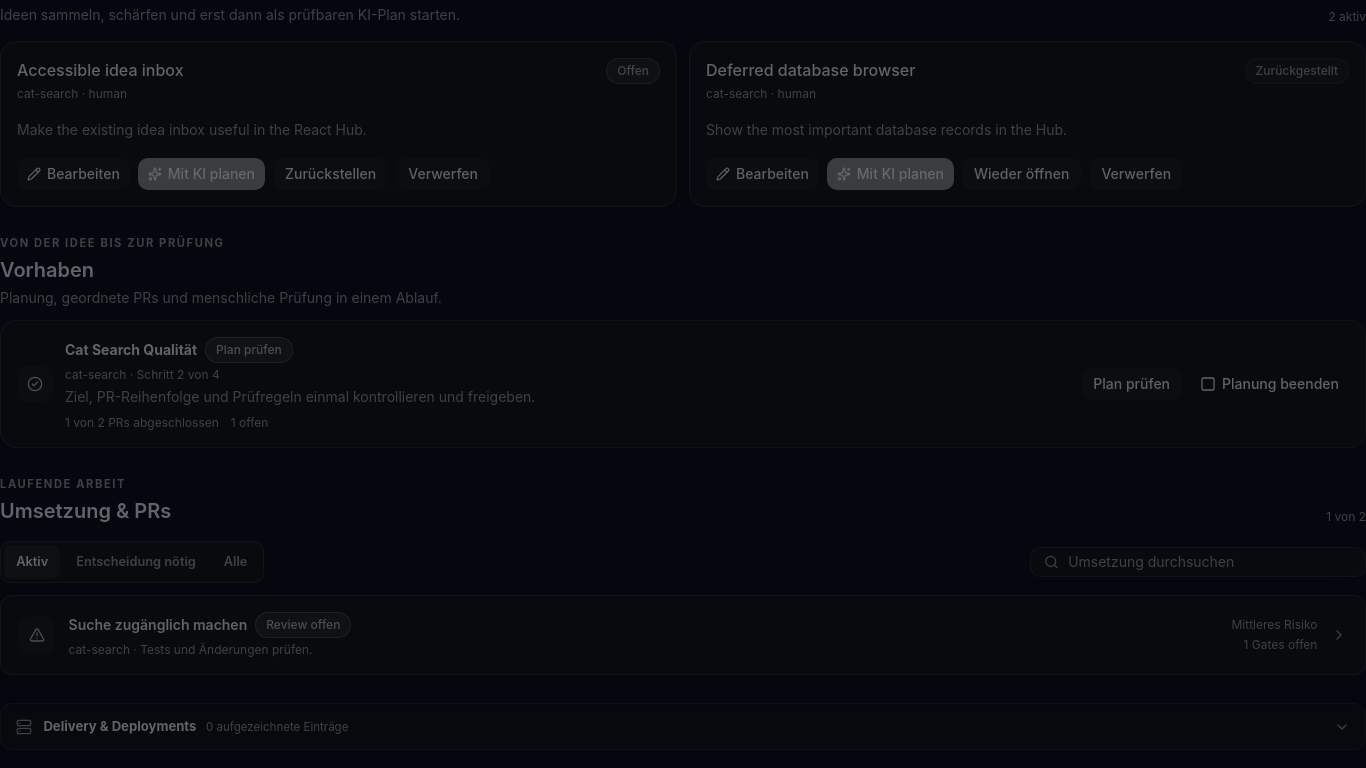
it: AutomationPage › keeps partial approval failures visible and refreshes the overview
(page scrolled)
Click the button "Plan prüfen" at x=1132, y=384, box x1=1081 y1=368 x2=1182 y2=400
(page scrolled)
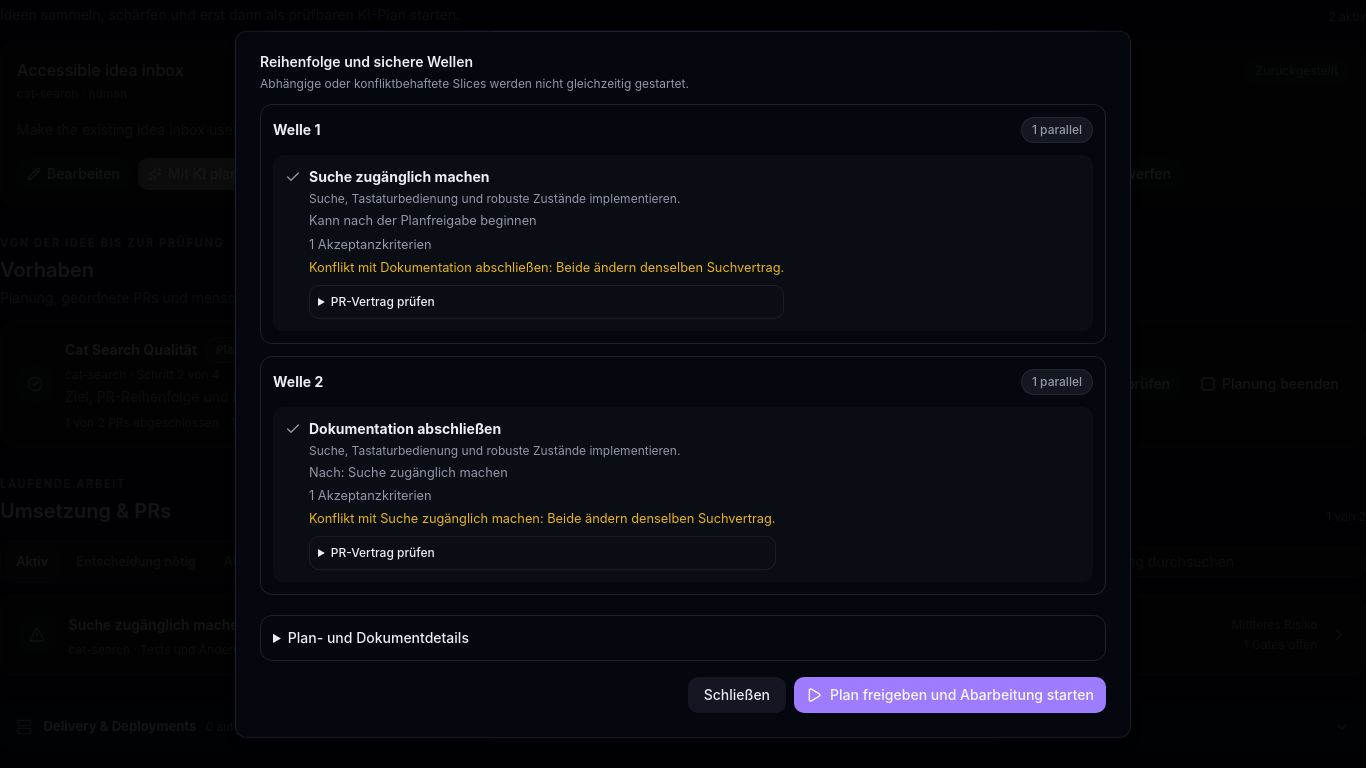
Click the button "Plan freigeben und Abarbeitung starten" at x=950, y=695, box x1=794 y1=677 x2=1106 y2=713
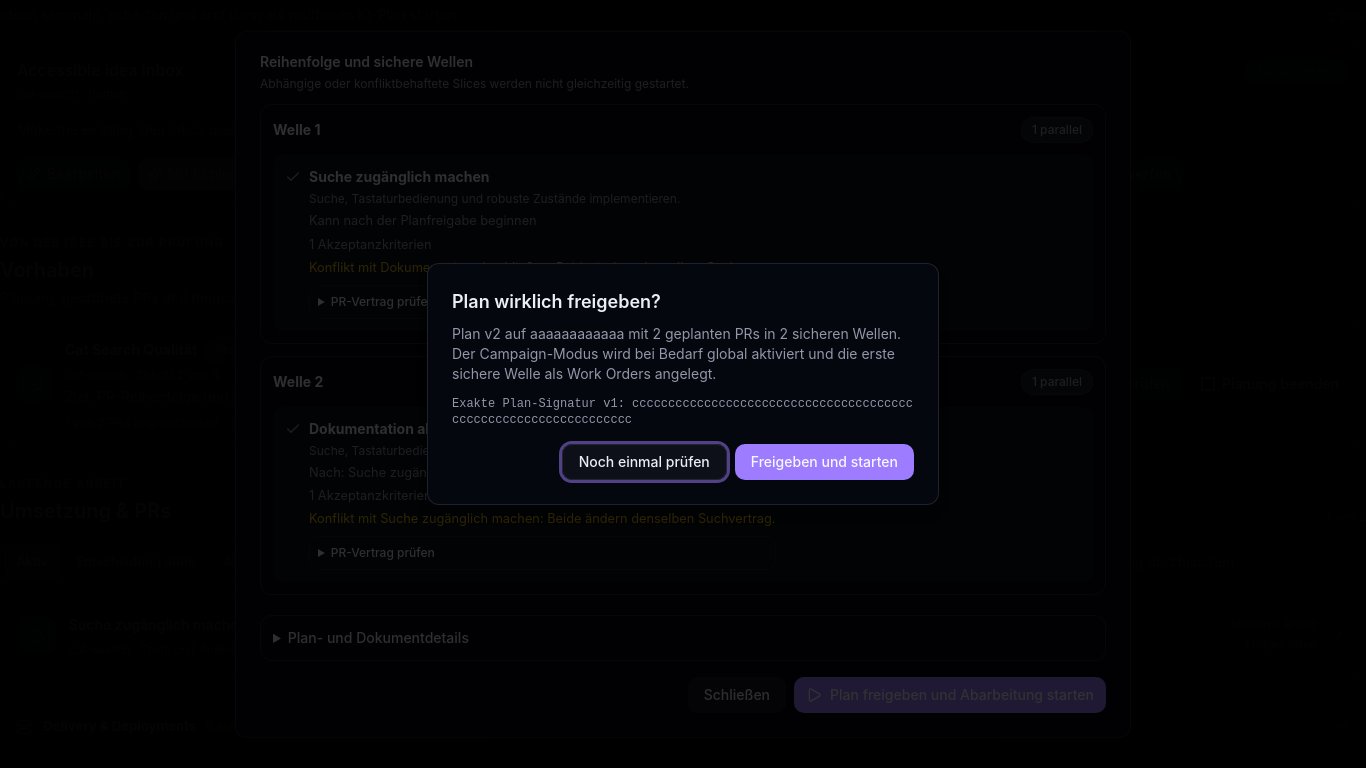
Click the button "Freigeben und starten" at x=824, y=462, box x1=735 y1=444 x2=914 y2=480
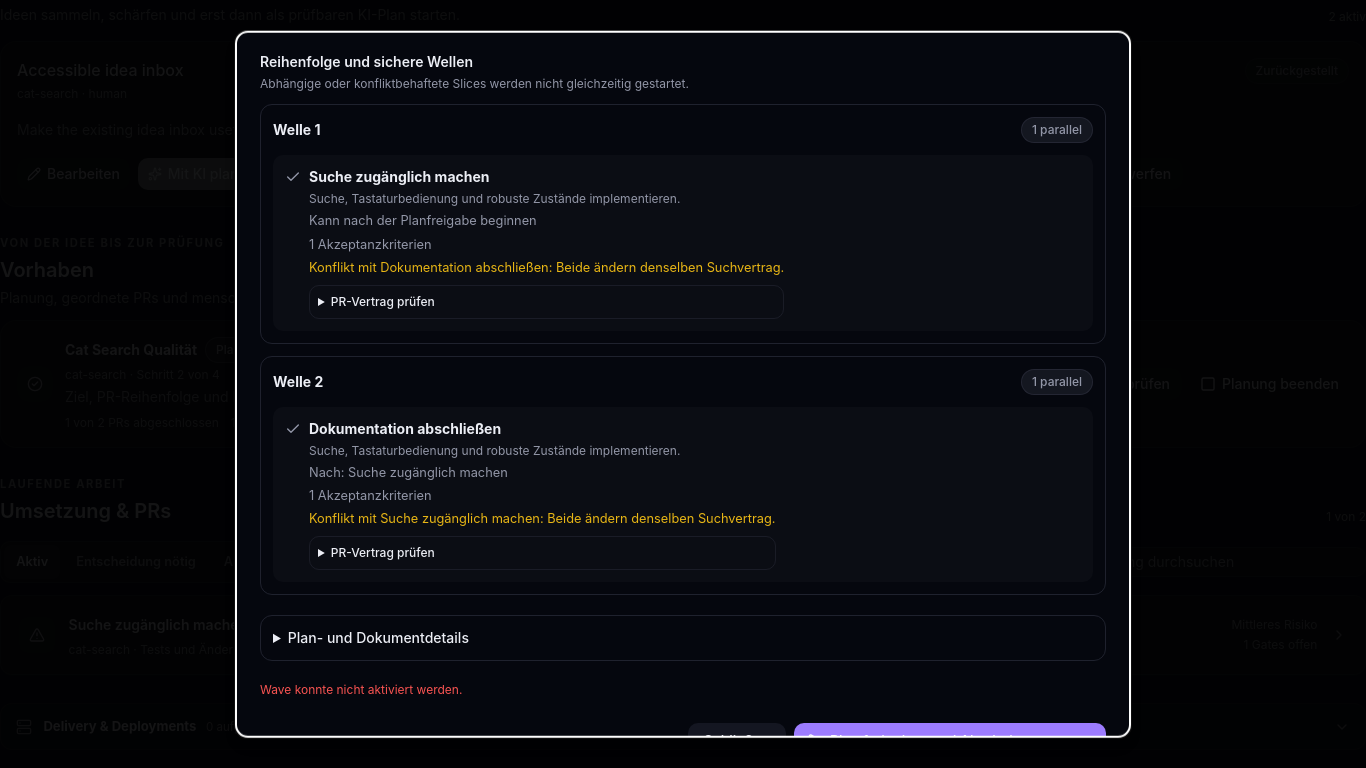
Result: the dialog "Plan prüfen:" is shown
Result: the text "Wave konnte nicht aktiviert werden." is shown at x1=260 y1=682 x2=462 y2=697
